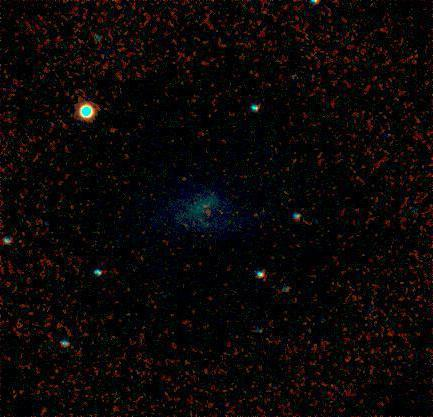star: (189, 194, 219, 224)
